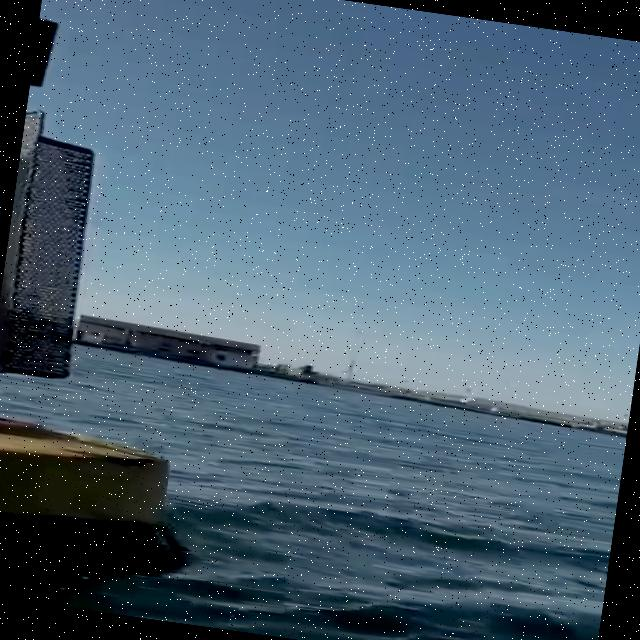marque: (1, 1, 252, 570)
